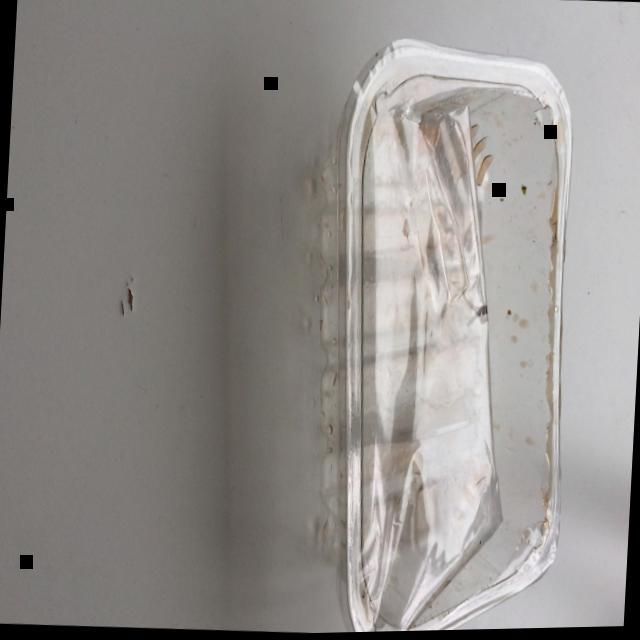Disposable food container: (319, 42, 572, 634)
Plastic film: (338, 43, 558, 634)
